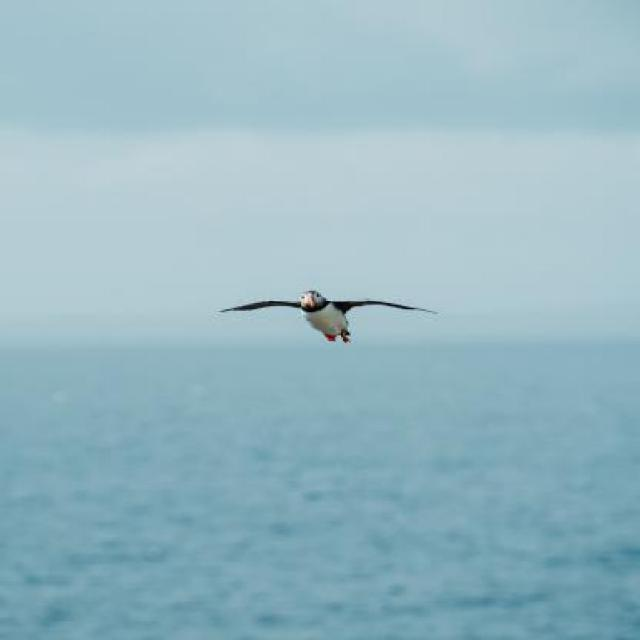bird: (220, 290, 438, 344)
